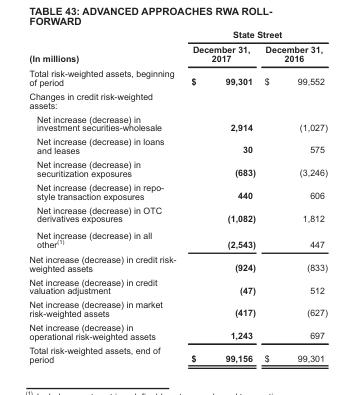table: (28, 29, 326, 363)
table column: (28, 29, 182, 363), (182, 29, 259, 363), (259, 29, 326, 363)
table column header: (28, 29, 326, 65)
table projected row header: (28, 88, 326, 111)
table row: (28, 226, 326, 251), (28, 41, 326, 65), (28, 202, 326, 226), (28, 65, 326, 88), (28, 88, 326, 111), (28, 111, 326, 134), (28, 156, 326, 179), (28, 179, 326, 202), (28, 251, 326, 274), (28, 274, 326, 297), (28, 297, 326, 320), (28, 134, 326, 156), (28, 320, 326, 342), (28, 342, 326, 363), (28, 29, 326, 41)
table spanning cell: (28, 29, 182, 65), (182, 29, 326, 41)
